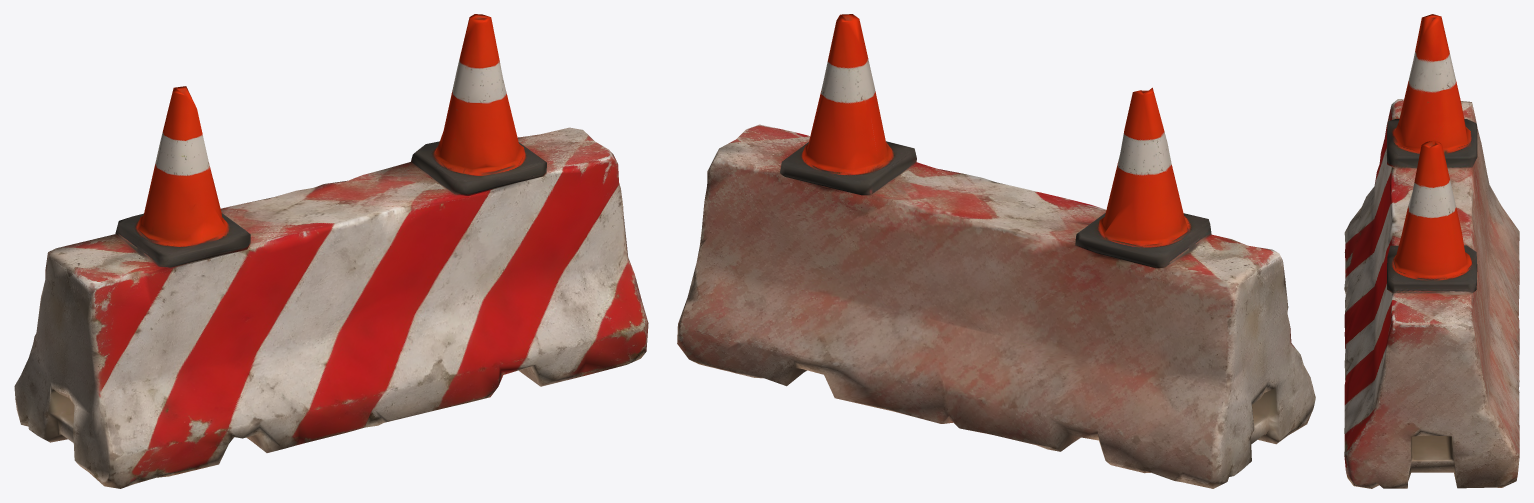
File: barrier-low.glb
3 views of the same model, side by side, from view 1: azimuth 30°, elevation 25°; view 2: azimuth 150°, elevation 25°; view 3: azimuth 270°, elevation 25° (orthographic). The views are drawn at different scales.
Parts seen in each view (by area): view 1: tripo_node_c50378ba-51e4-4977-807f-8f7ad8e83f59; view 2: tripo_node_c50378ba-51e4-4977-807f-8f7ad8e83f59; view 3: tripo_node_c50378ba-51e4-4977-807f-8f7ad8e83f59.
Part boxes in pixels (left/top/right/bottom): tripo_node_c50378ba-51e4-4977-807f-8f7ad8e83f59: left=14, top=14, right=648, bottom=488; tripo_node_c50378ba-51e4-4977-807f-8f7ad8e83f59: left=677, top=14, right=1315, bottom=488; tripo_node_c50378ba-51e4-4977-807f-8f7ad8e83f59: left=1344, top=14, right=1519, bottom=488.
Size of the model in its own units: 1 by 0.5938 by 0.3218.
Materials: 1 (1 with a texture image).
